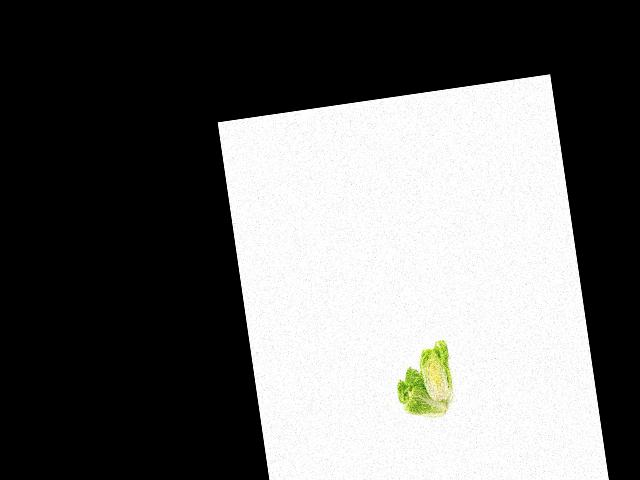lettuce: (391, 358, 452, 424)
